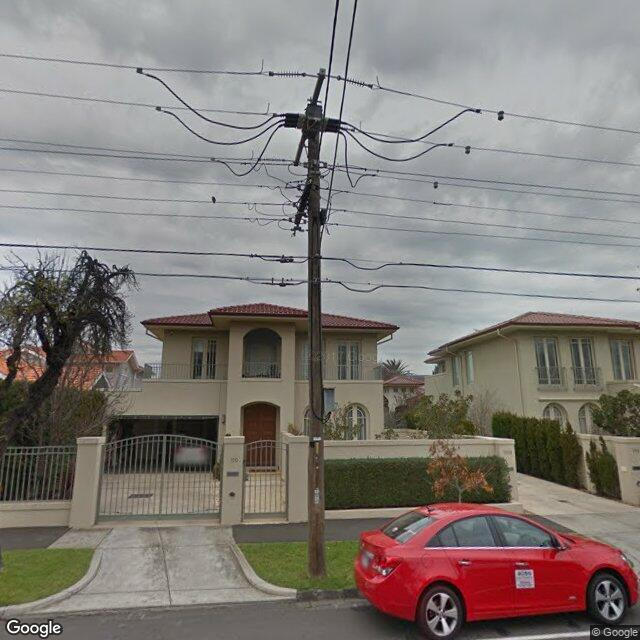HV-switch: (276, 113, 348, 135)
HV-transmission: (268, 71, 373, 133)
crossarm: (293, 68, 326, 167), (294, 178, 314, 225)
timber-pole: (307, 105, 326, 578)
